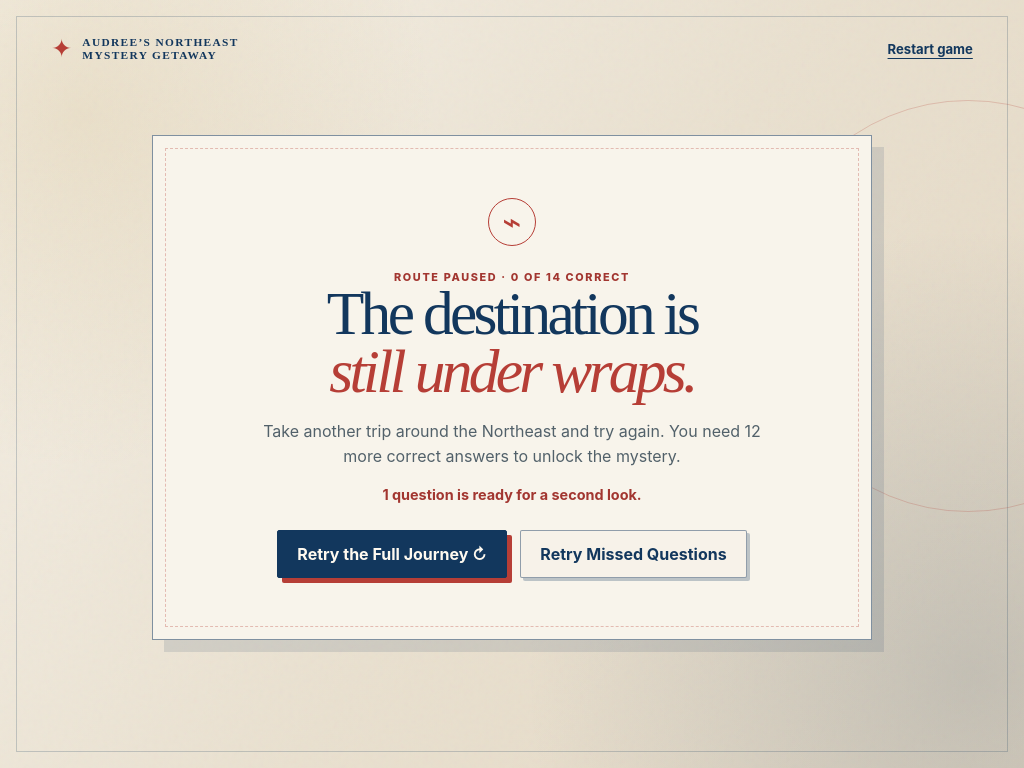
Test: The Northeast Mystery Getaway › clears persisted progress when the player confirms restart
Step 1. Click the button "Restart game" → (930, 49), box [888,32,973,66]
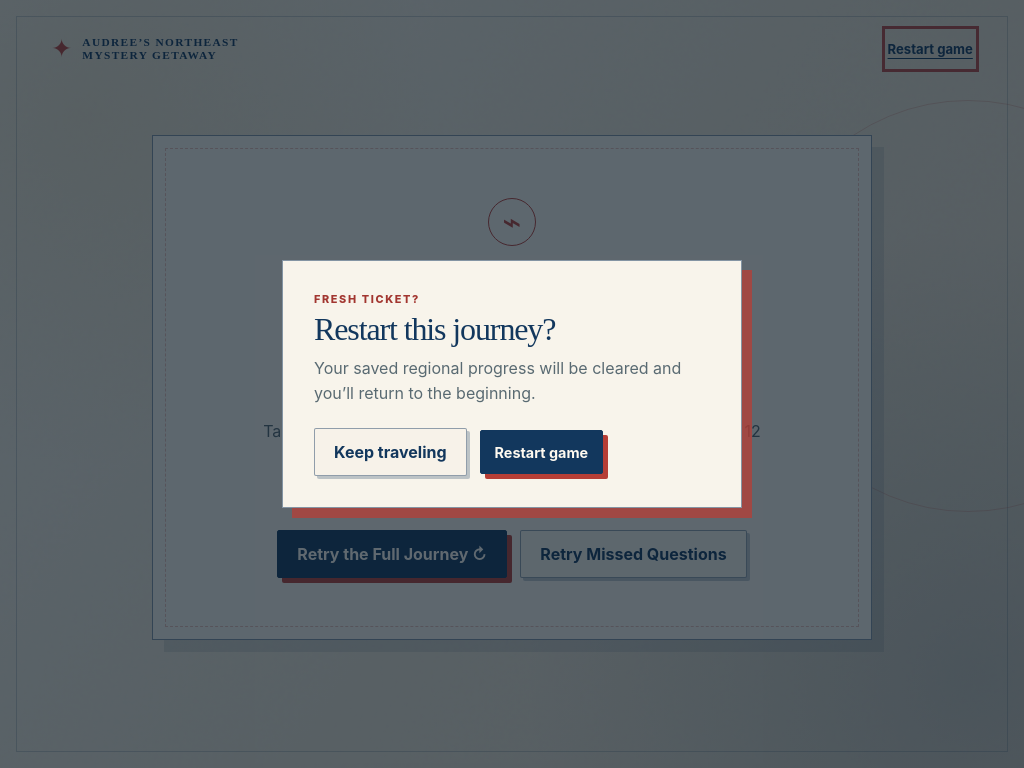
Step 2. Click the button "Restart game" → (541, 452), box [480,430,603,474]
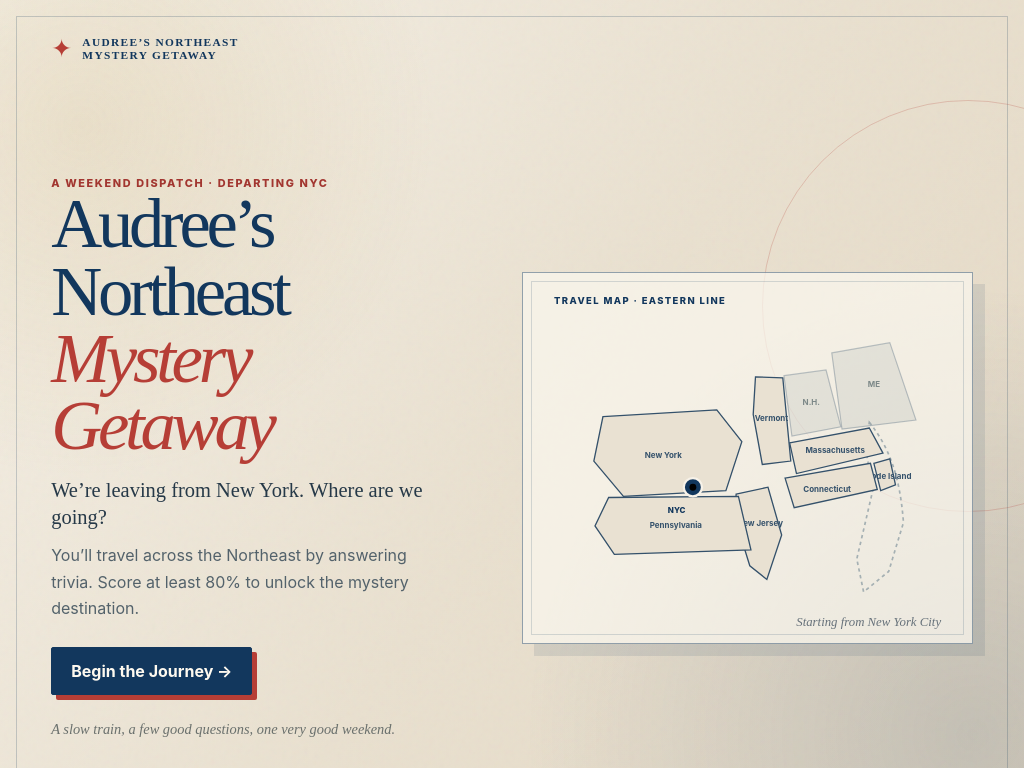
Check: the text "We’re leaving from New York. Where are we going?" is shown, box [51,477,451,532]
